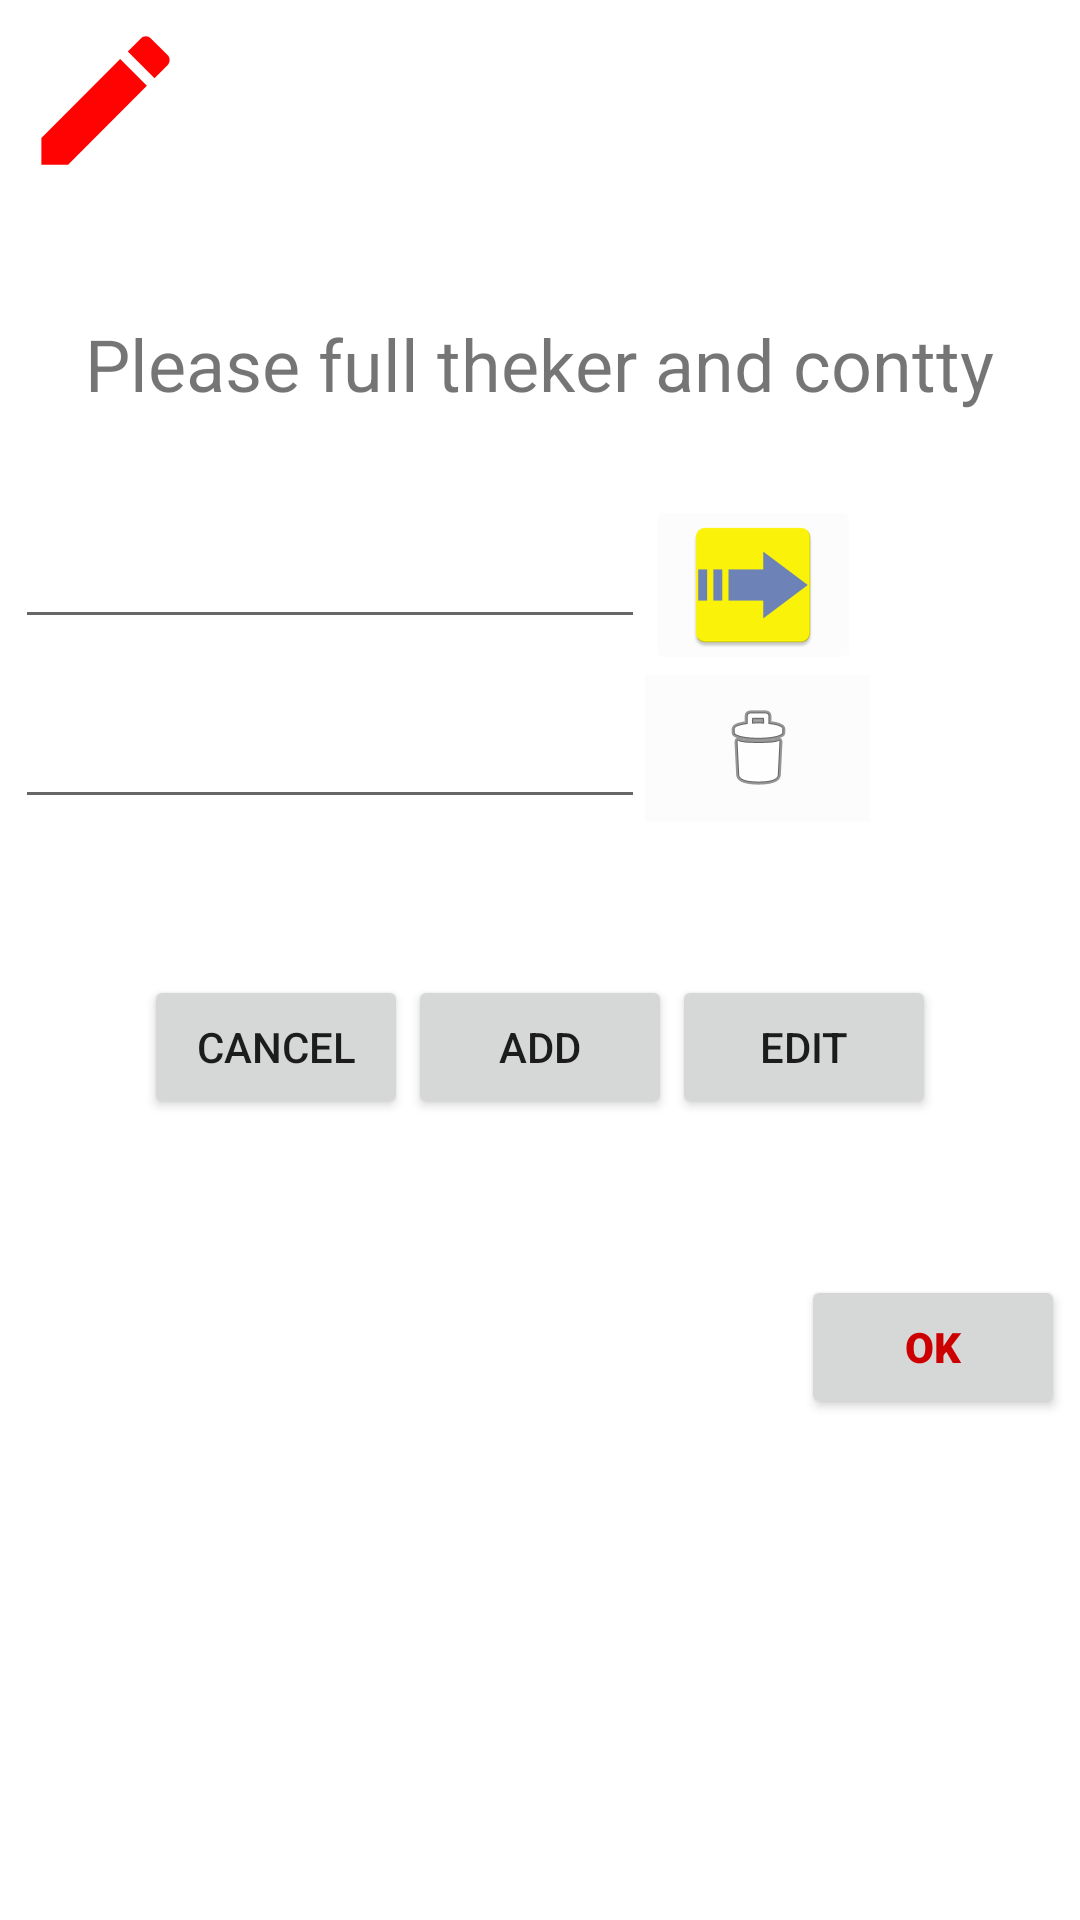

Locate icon controls on the screen. Image size 1080px x 1920px, boxes as [x1=x1, y1=y1, x2=x2, y2=y2].
Delete: [x1=731, y1=710, x2=786, y2=785]
edit: [x1=41, y1=36, x2=170, y2=165]
next: [x1=695, y1=527, x2=811, y2=646]
